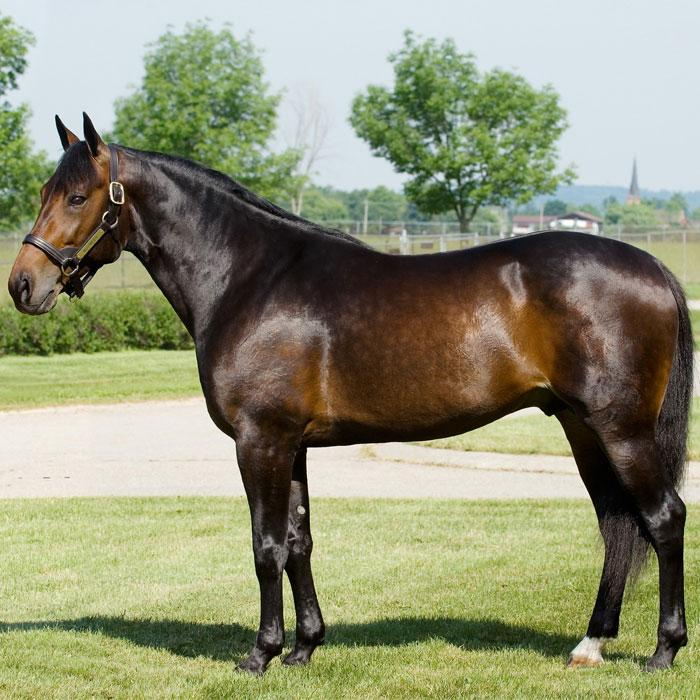horse: (0, 106, 700, 680)
